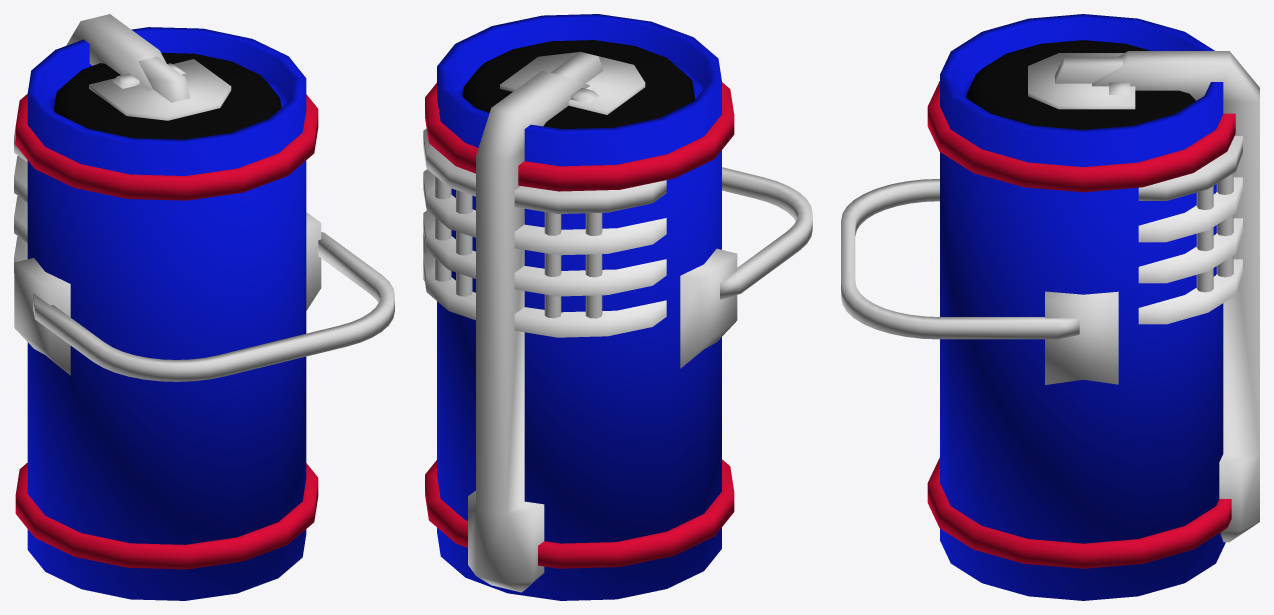
File: Barrel Big.fbx
The picture shows the model from 3 angles, left to right: view 1: azimuth 30°, elevation 25°; view 2: azimuth 150°, elevation 25°; view 3: azimuth 270°, elevation 25°; orthographic projection. The views are drawn at different scales.
Visible parts, largest first — view 1: baril_low, ance_low, accroche_low, ance_suport_low, deco_low.001; view 2: baril_low, accroche_low, deco_low.001, ance_low, deco_low, ance_suport_low, tuyaux_low; view 3: baril_low, accroche_low, ance_low, deco_low.001, ance_suport_low, deco_low, tuyaux_low.
Part boxes in pixels (x1,y1,x2,y2): baril_low: [15, 27, 318, 600]; ance_low: [33, 232, 394, 381]; accroche_low: [66, 14, 231, 120]; ance_suport_low: [14, 212, 321, 375]; deco_low.001: [14, 156, 27, 273]; baril_low: [425, 14, 734, 600]; accroche_low: [468, 51, 645, 592]; deco_low.001: [423, 169, 666, 337]; ance_low: [720, 167, 812, 299]; deco_low: [423, 128, 666, 213]; ance_suport_low: [423, 232, 737, 368]; tuyaux_low: [435, 176, 602, 318]; baril_low: [927, 14, 1235, 600]; accroche_low: [1028, 51, 1259, 542]; ance_low: [841, 179, 1079, 339]; deco_low.001: [1138, 177, 1242, 324]; ance_suport_low: [1045, 291, 1118, 384]; deco_low: [1138, 136, 1242, 200]; tuyaux_low: [1196, 173, 1233, 292].
Size of the model in its own units: 128 by 200 by 158.
